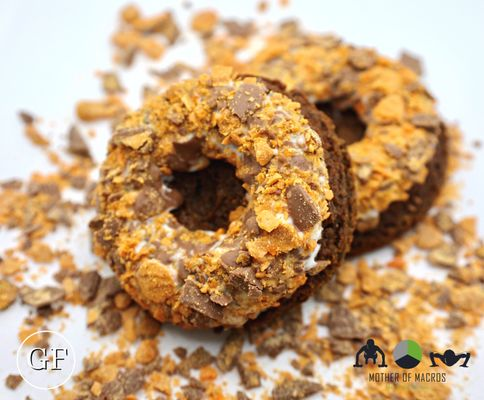sushi: (26, 6, 455, 365)
